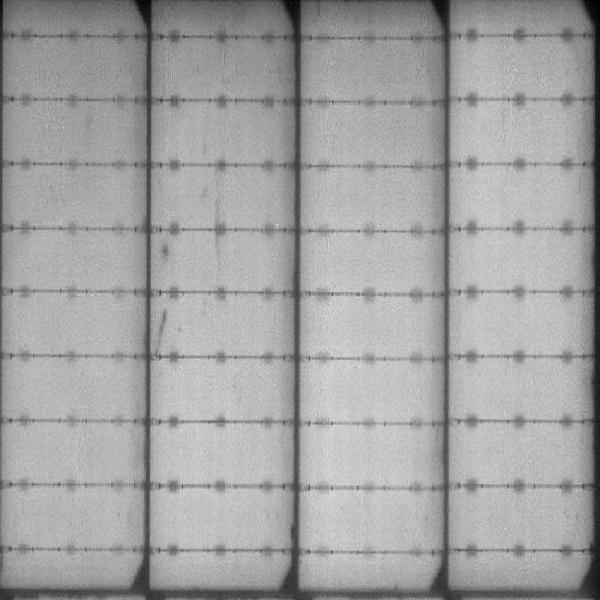scratch: (211, 177, 227, 276), (155, 305, 168, 351)
